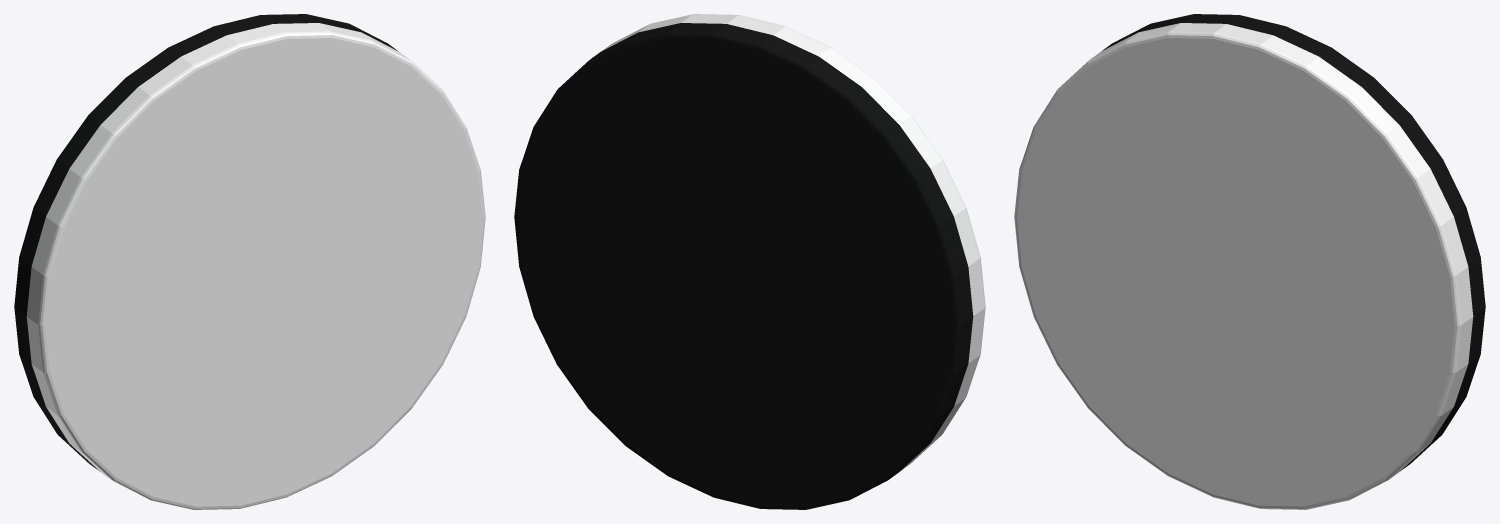
File: othello_chip.glb
3 views of the same model, side by side, from view 1: azimuth 30°, elevation 25°; view 2: azimuth 150°, elevation 25°; view 3: azimuth 330°, elevation 25° (orthographic).
Visible parts, largest first — view 1: othello_chip.obj; view 2: othello_chip.obj; view 3: othello_chip.obj.
Part boxes in pixels (x1,y1,x2,y2): othello_chip.obj: (14, 14, 485, 509); othello_chip.obj: (514, 14, 985, 509); othello_chip.obj: (1014, 14, 1485, 509).
Bounding box in the file's own units: 1 × 0.9945 × 0.109.
1 material, 1 textured.
